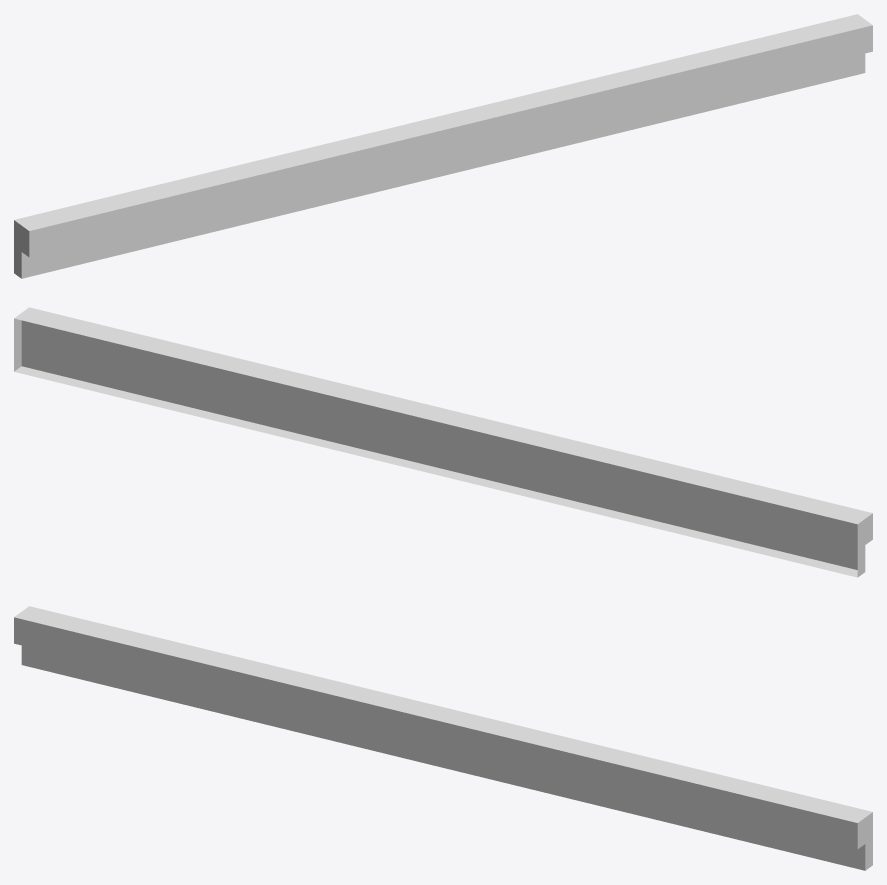
Rendered from wall_029.fbx.
3 renders of one model, top to bottom at view 1: azimuth 30°, elevation 25°; view 2: azimuth 150°, elevation 25°; view 3: azimuth 330°, elevation 25°, orthographic.
Parts seen in each view (by area): view 1: wall_029; view 2: wall_029; view 3: wall_029.
Boxes of the visible parts, bbox=[...] form: wall_029: bbox=[14, 14, 872, 278]; wall_029: bbox=[14, 307, 872, 577]; wall_029: bbox=[14, 606, 872, 870].
Bounding box in the file's own units: 400 × 12.55 × 24.15.
